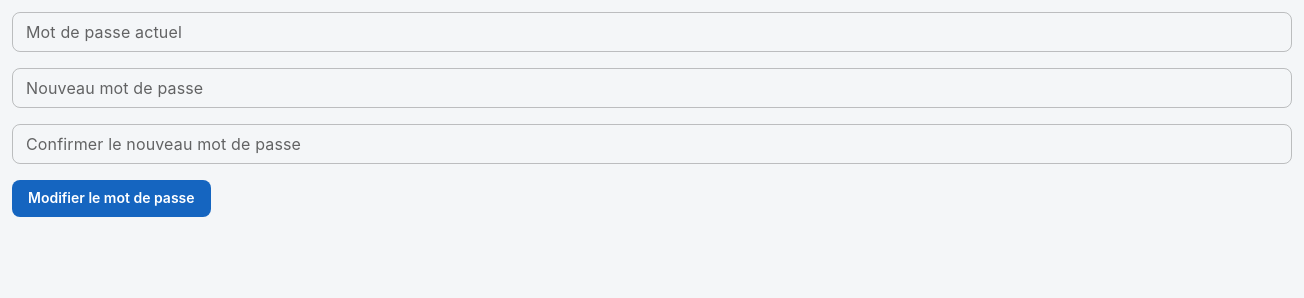
Scenario: ChangePasswordForm › displays the API error message when the current password is wrong
The width and height of the screenshot is (1304, 298).
Type "WrongPassword123" into the password field labelled "Mot de passe actuel" at coordinates (652, 32), box [12, 12, 1292, 52]
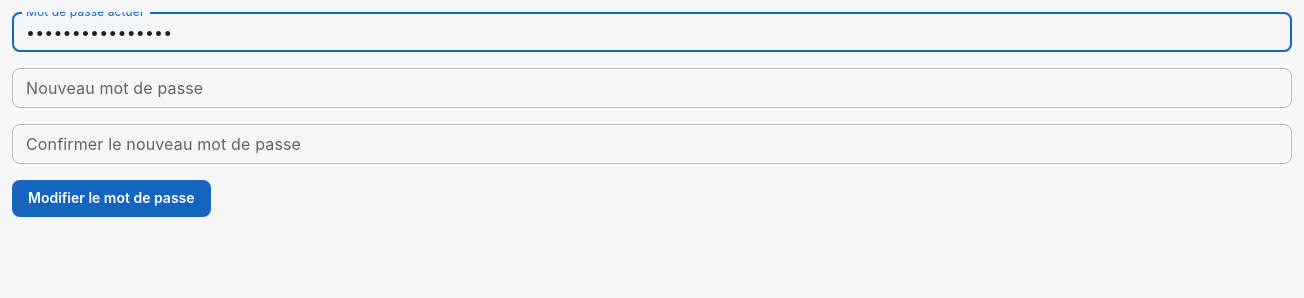
Type "NewValidPassword123" into the password field labelled "Nouveau mot de passe" at coordinates (652, 88), box [12, 68, 1292, 108]
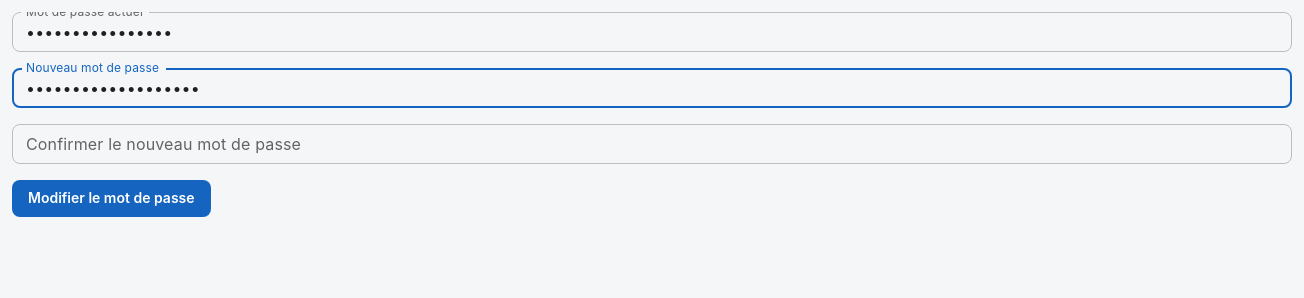
Type "NewValidPassword123" into the password field labelled "Confirmer le nouveau mot de passe" at coordinates (652, 144), box [12, 124, 1292, 164]
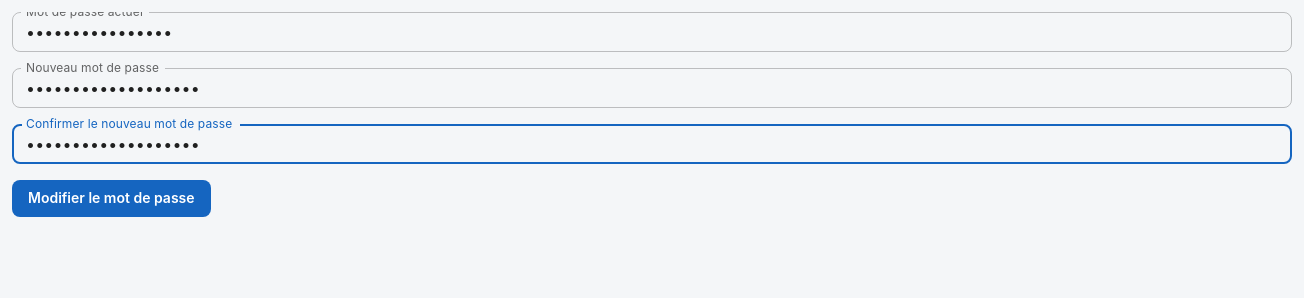
Click the button "Modifier le mot de passe" at coordinates (111, 198), box [12, 180, 211, 216]
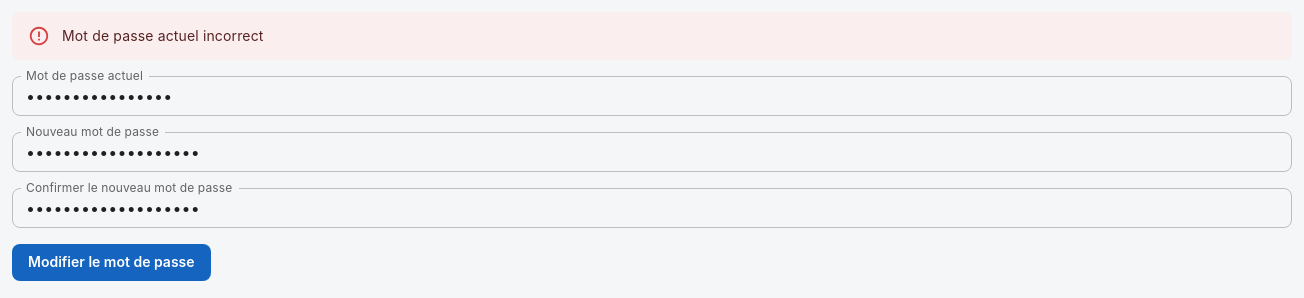
Expected: the text "Mot de passe actuel incorrect" is shown, [62, 27, 264, 44]
